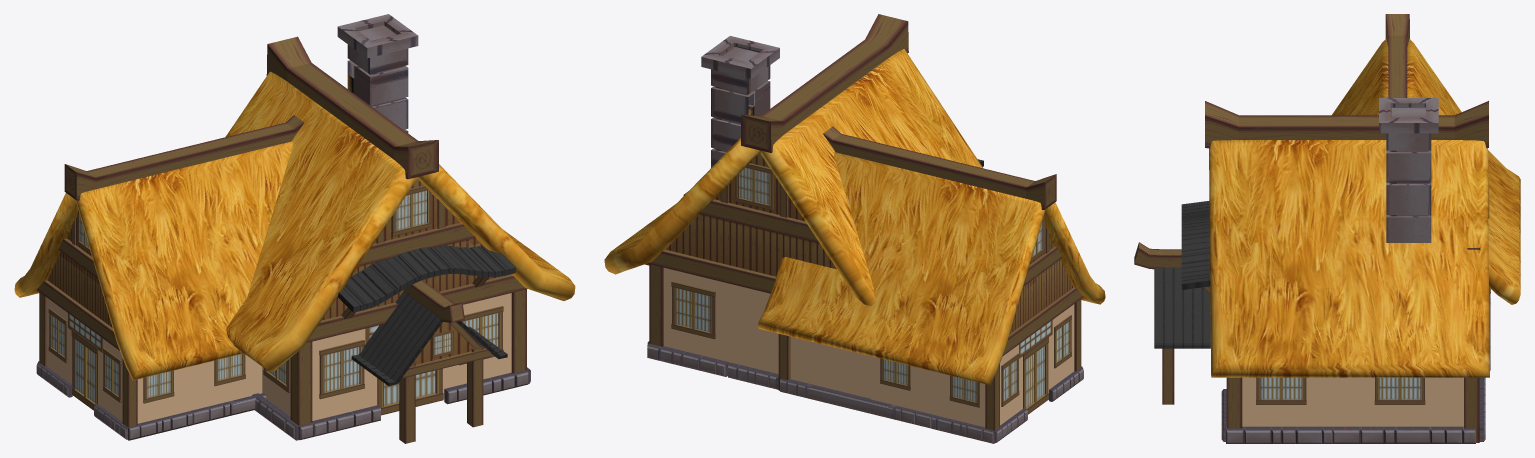
File: ThimSheet.fbx
3 views of the same model, side by side, from view 1: azimuth 30°, elevation 25°; view 2: azimuth 150°, elevation 25°; view 3: azimuth 270°, elevation 25° (orthographic). The views are drawn at different scales.
Visible parts, largest first — view 1: Plane.060; view 2: Plane.060; view 3: Plane.060.
Part boxes in pixels (bbox=[...]): Plane.060: bbox=[14, 14, 575, 443]; Plane.060: bbox=[604, 14, 1105, 443]; Plane.060: bbox=[1134, 14, 1520, 443].
Size of the model in its own units: 1069 by 744 by 859.
2 materials, 1 textured.
